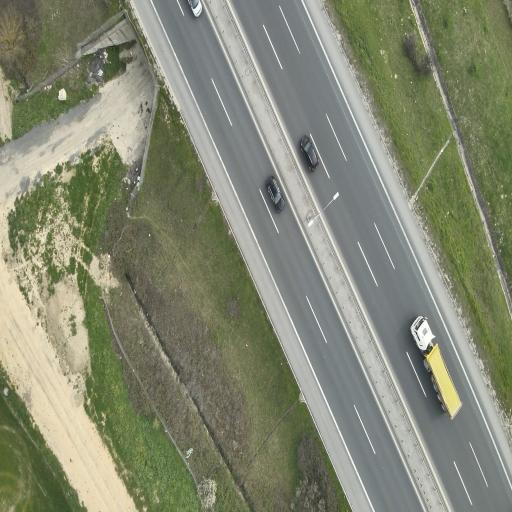car: (410, 316, 460, 418), (300, 135, 317, 170), (266, 176, 283, 211), (188, 0, 201, 16)
